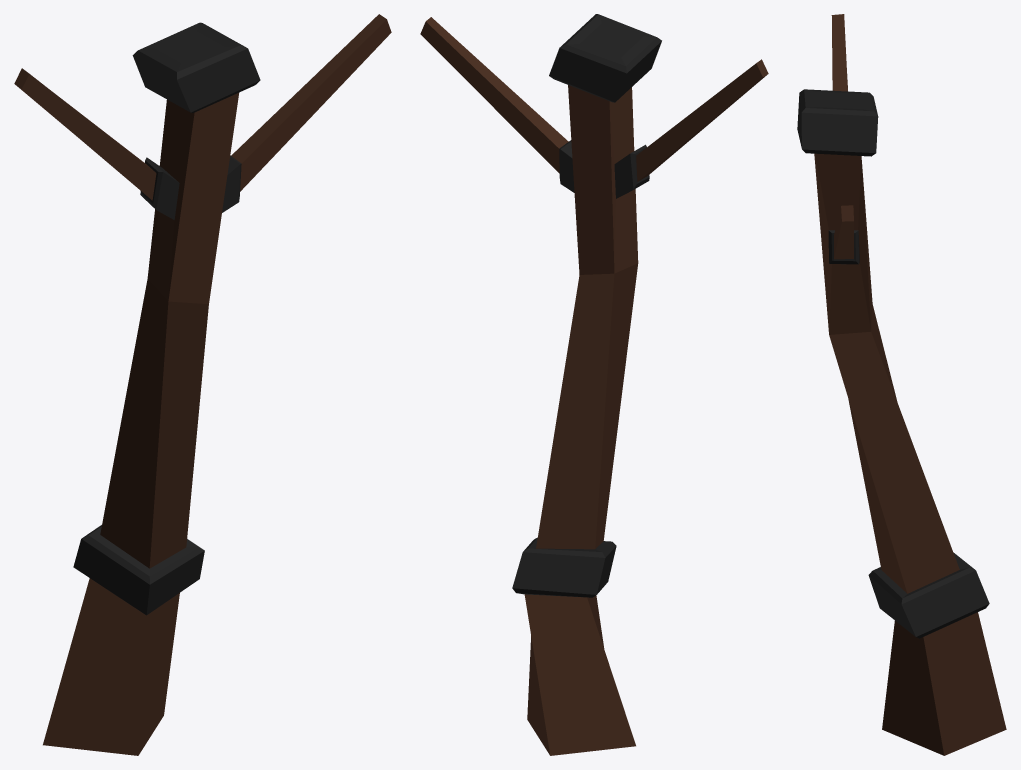
Rendered from WoodenBeams_02.fbx.
The picture shows the model from 3 angles, left to right: view 1: azimuth 30°, elevation 25°; view 2: azimuth 150°, elevation 25°; view 3: azimuth 270°, elevation 25°; orthographic projection. The views are drawn at different scales.
Parts seen in each view (by area): view 1: WoodenBeams_02; view 2: WoodenBeams_02; view 3: WoodenBeams_02.
Boxes of the visible parts, bbox=[...] form: WoodenBeams_02: bbox=[14, 14, 391, 755]; WoodenBeams_02: bbox=[420, 14, 768, 755]; WoodenBeams_02: bbox=[797, 14, 1006, 755].
Size of the model in its own units: 2.63 by 1.42 by 4.92.
